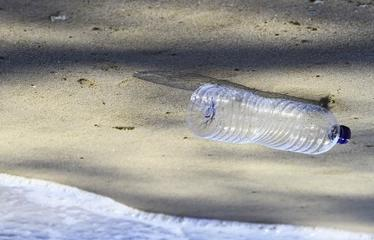Plastic: (179, 72, 360, 158)
